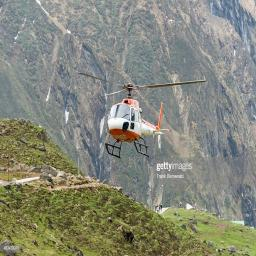helicopter: (81, 74, 205, 162)
